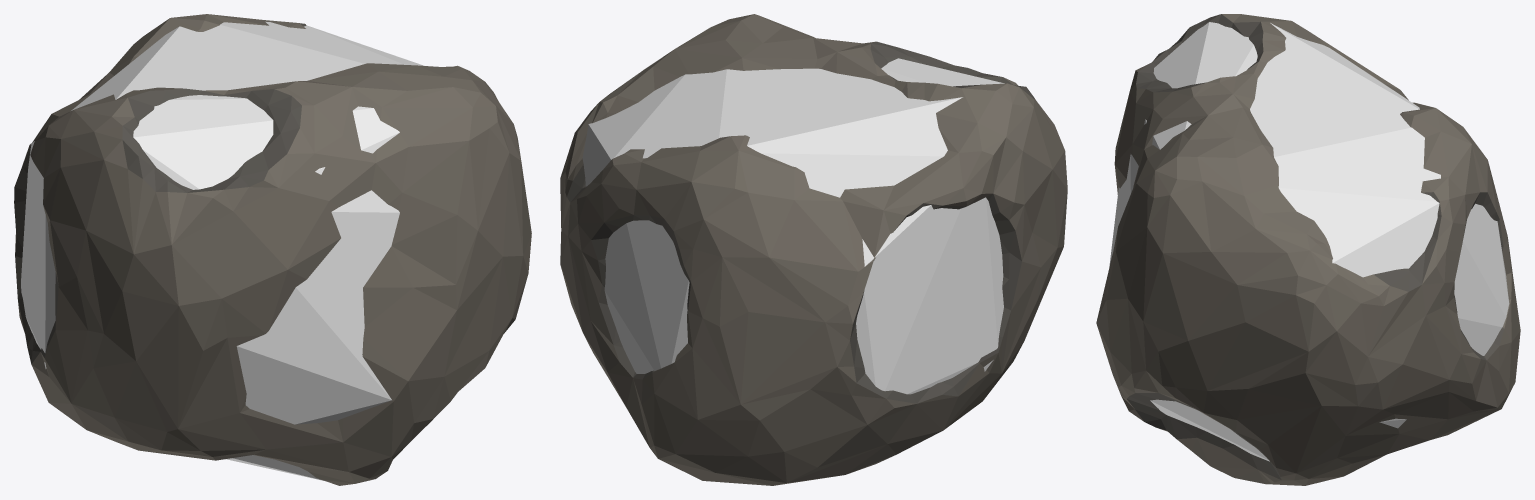
File: SM_Env_Asteroid_Holes_02.fbx
The picture shows the model from 3 angles, left to right: view 1: azimuth 30°, elevation 25°; view 2: azimuth 150°, elevation 25°; view 3: azimuth 270°, elevation 25°; orthographic projection. The views are drawn at different scales.
Parts seen in each view (by area): view 1: SM_Env_Asteroid_Holes_02_LOD0, SM_Env_Asteroid_Holes_02_ConvexHulls; view 2: SM_Env_Asteroid_Holes_02_LOD0, SM_Env_Asteroid_Holes_02_ConvexHulls; view 3: SM_Env_Asteroid_Holes_02_LOD0, SM_Env_Asteroid_Holes_02_ConvexHulls.
Part boxes in pixels (x1,y1,x2,y2): SM_Env_Asteroid_Holes_02_LOD0: (14, 14, 531, 485); SM_Env_Asteroid_Holes_02_ConvexHulls: (21, 21, 424, 481); SM_Env_Asteroid_Holes_02_LOD0: (560, 14, 1067, 485); SM_Env_Asteroid_Holes_02_ConvexHulls: (582, 58, 1004, 394); SM_Env_Asteroid_Holes_02_LOD0: (1096, 14, 1520, 485); SM_Env_Asteroid_Holes_02_ConvexHulls: (1109, 22, 1509, 461).
Size of the model in its own units: 571 by 640 by 546.
Materials: 1 (1 with a texture image).
